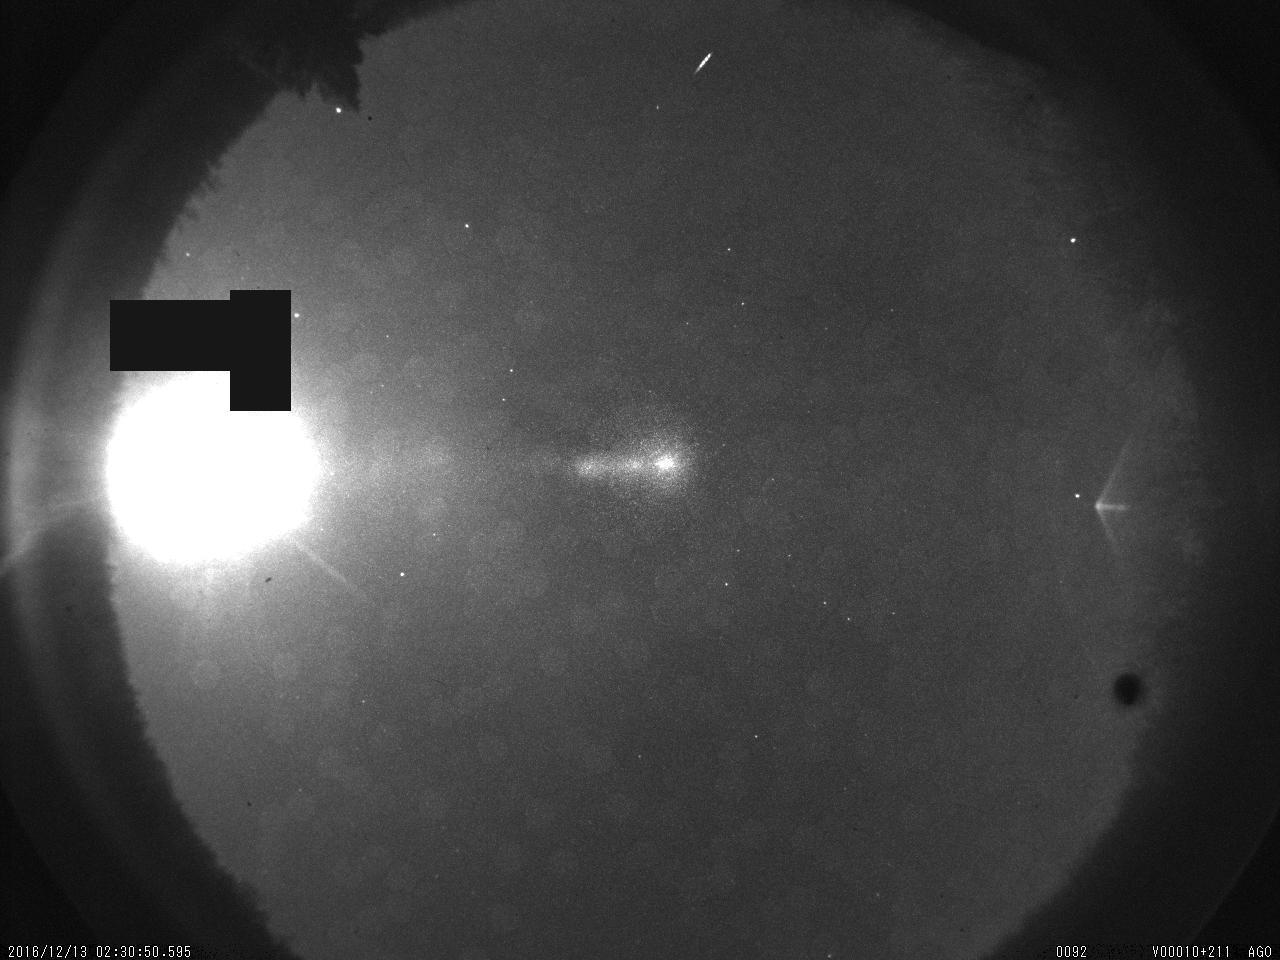meteor: (691, 42, 721, 81)
